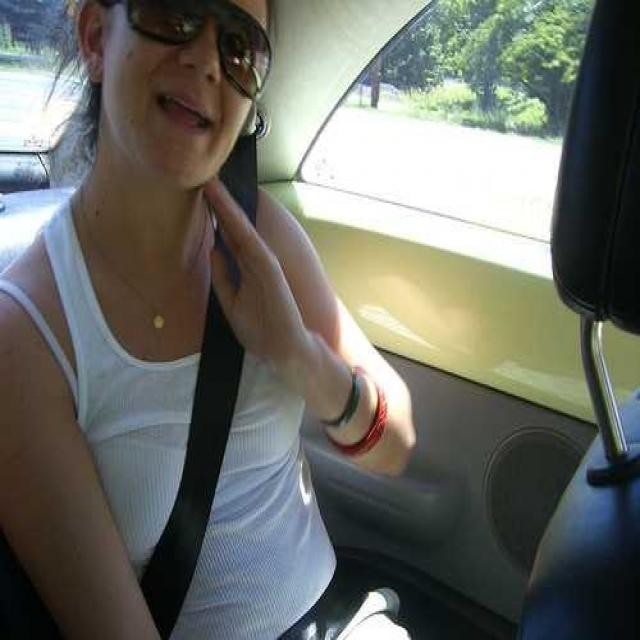seatbelt: (132, 99, 284, 580)
